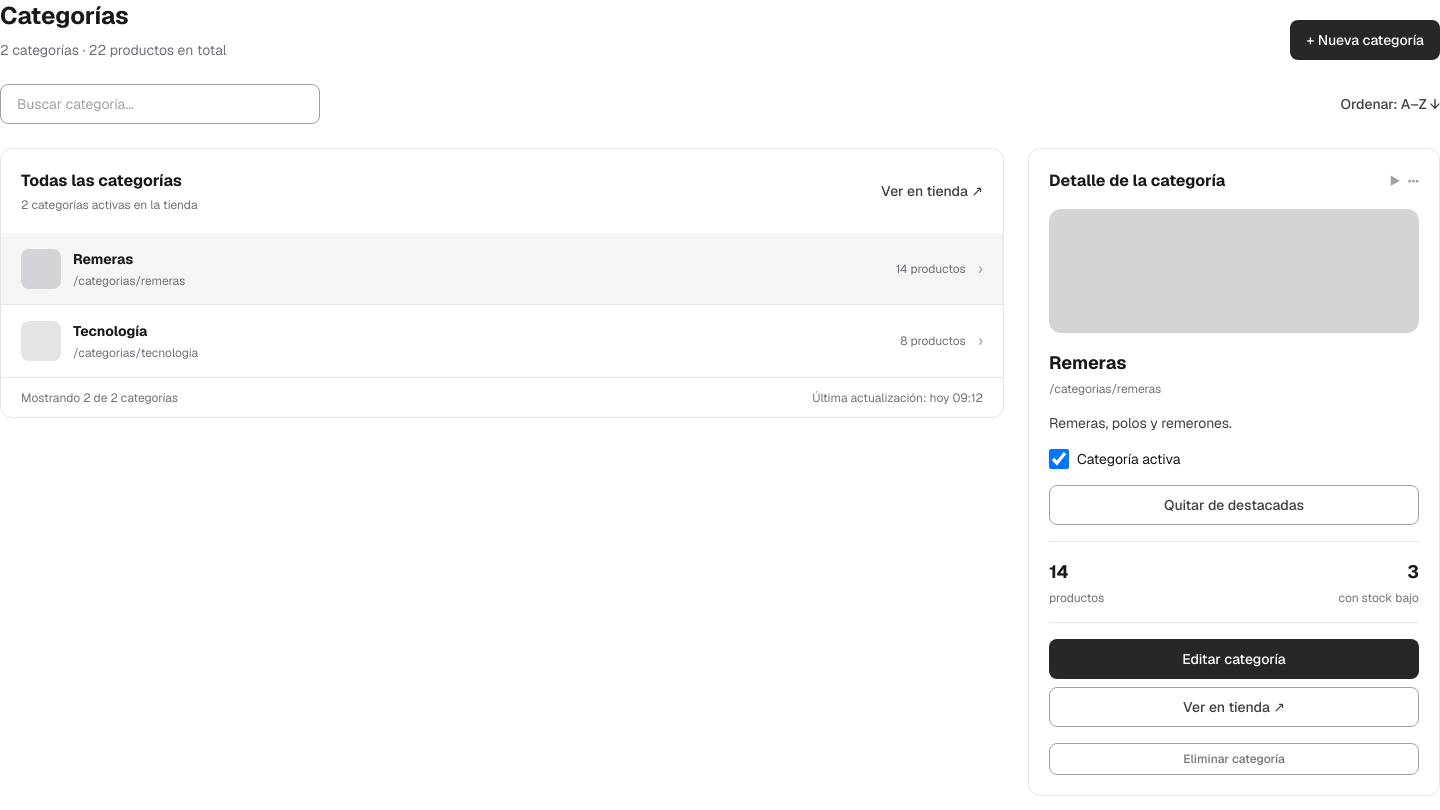
AdminCategoriesWorkspace › creates a category from the header form
Click the button "+ Nueva categoría".
click(1365, 40)  # box [1290,20,1439,60]
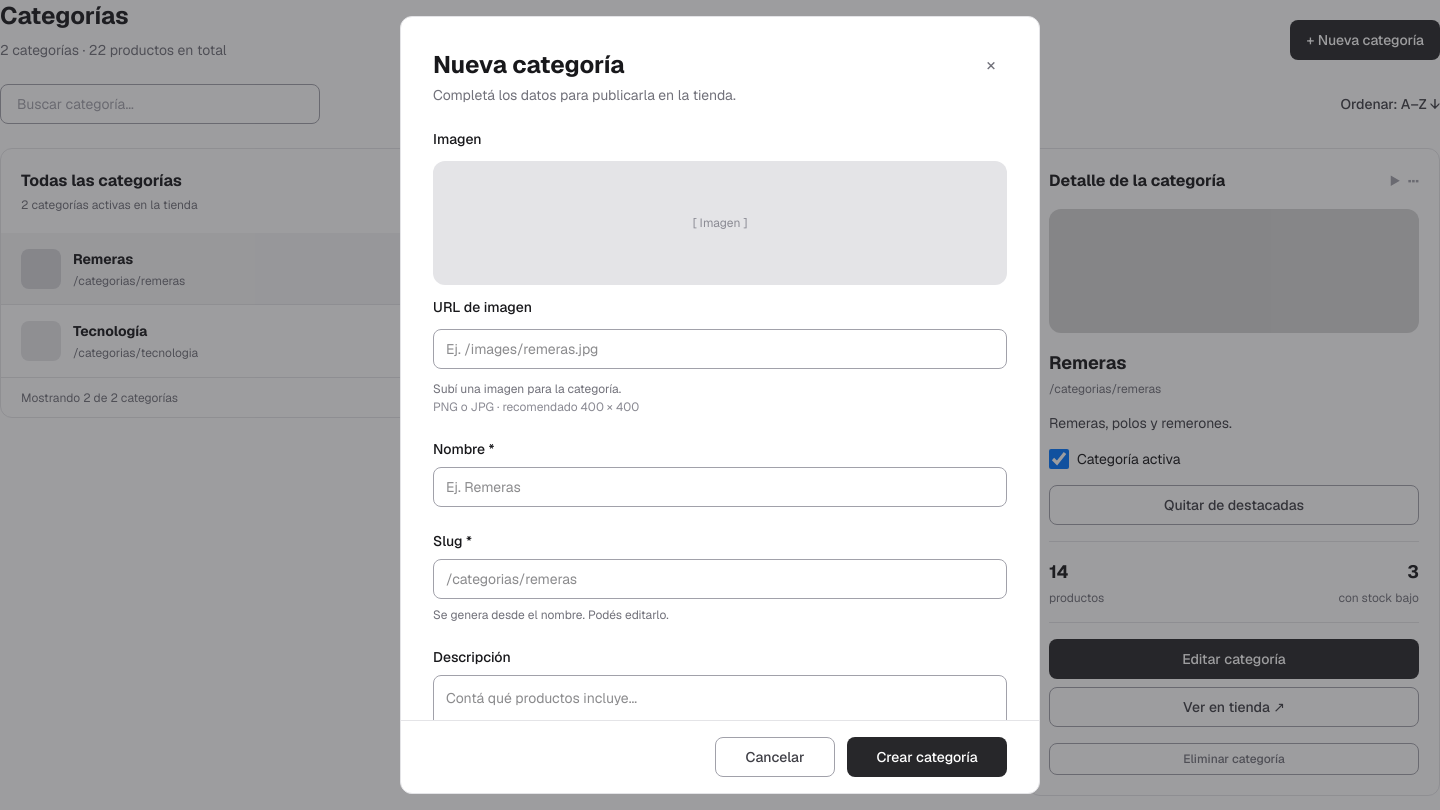
Type "Camisetas" into the field labelled "Nombre *".
click(720, 487); type("Camisetas")  # box [433,467,1007,507]
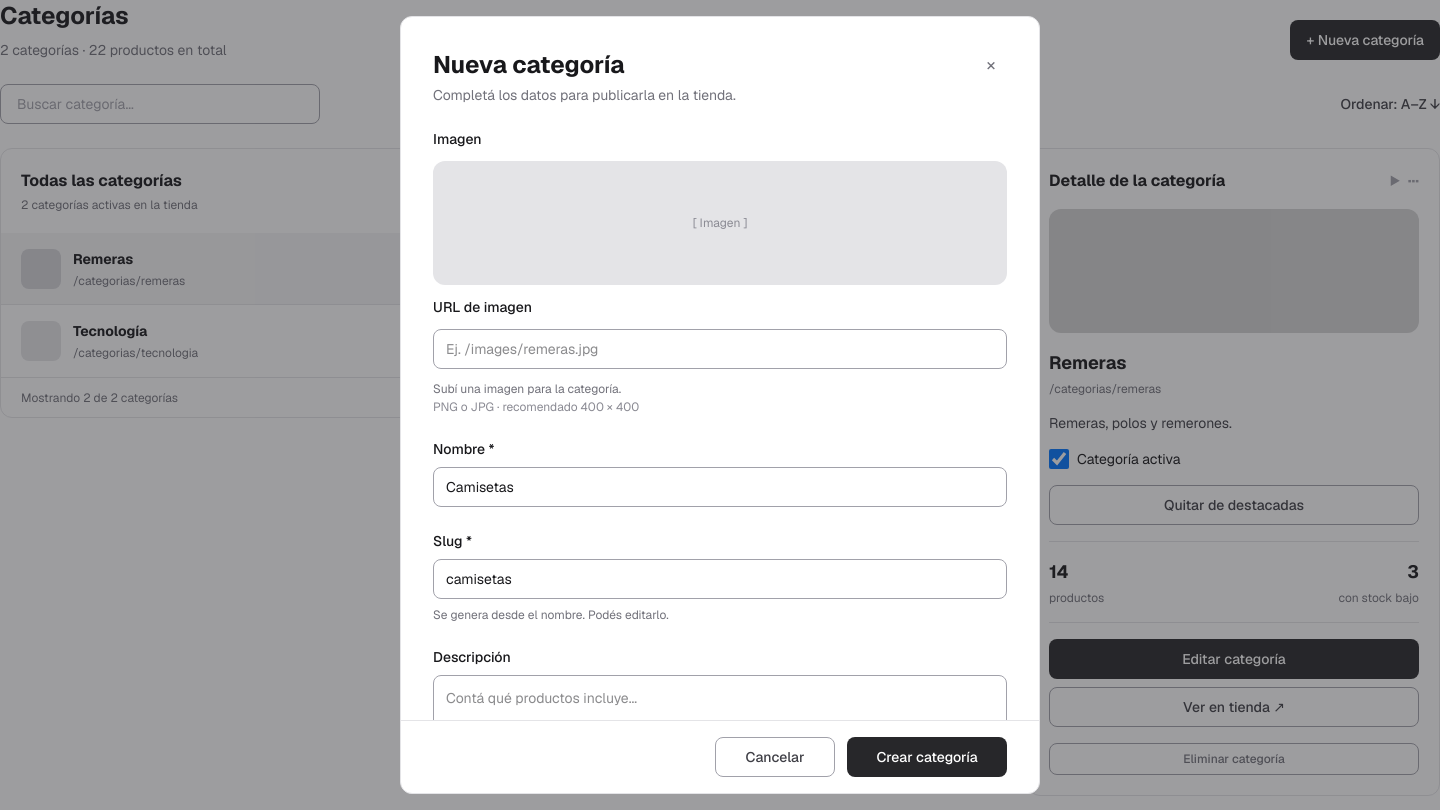
Click the button "Crear categoría".
click(927, 757)  # box [847,737,1007,777]
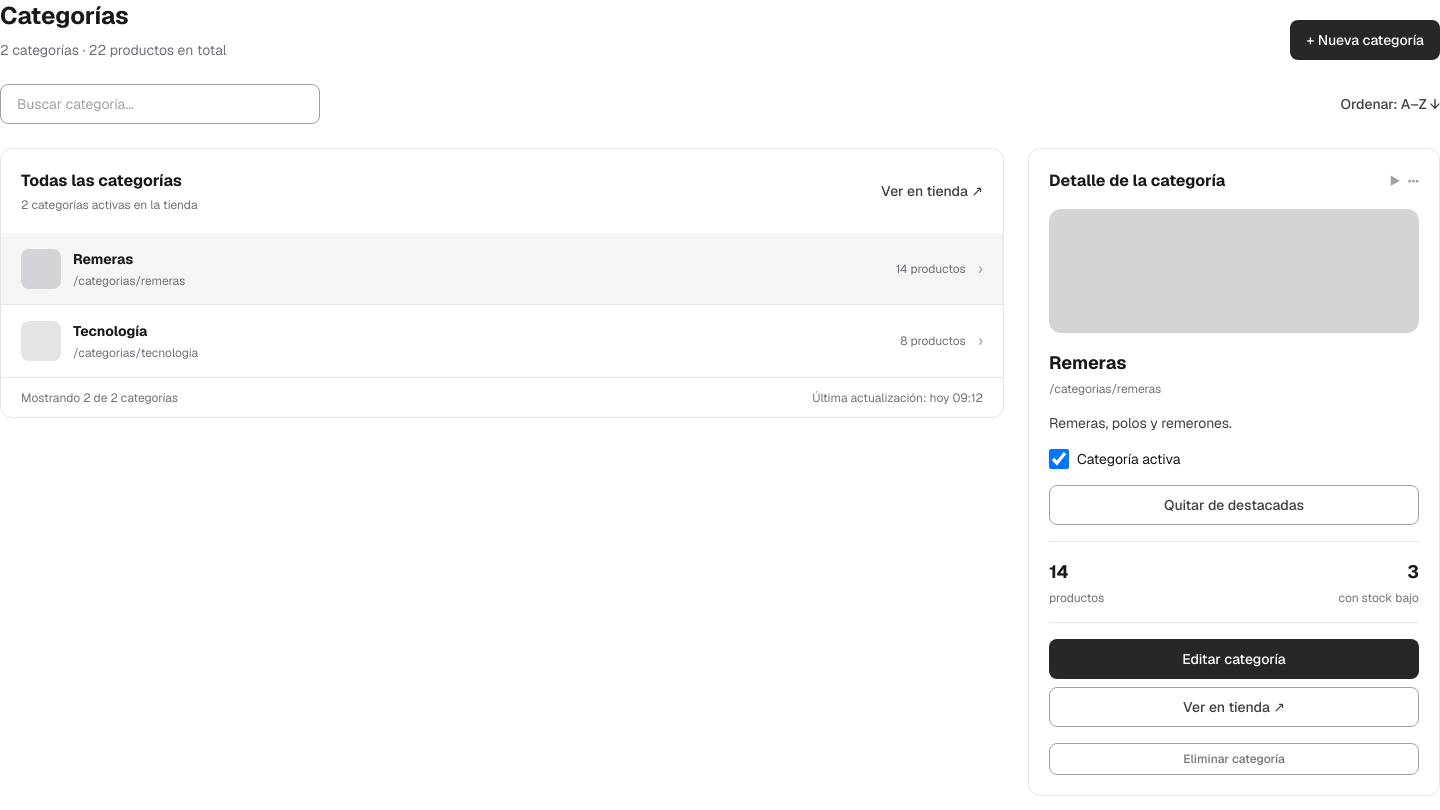
Result: the dialog is gone
